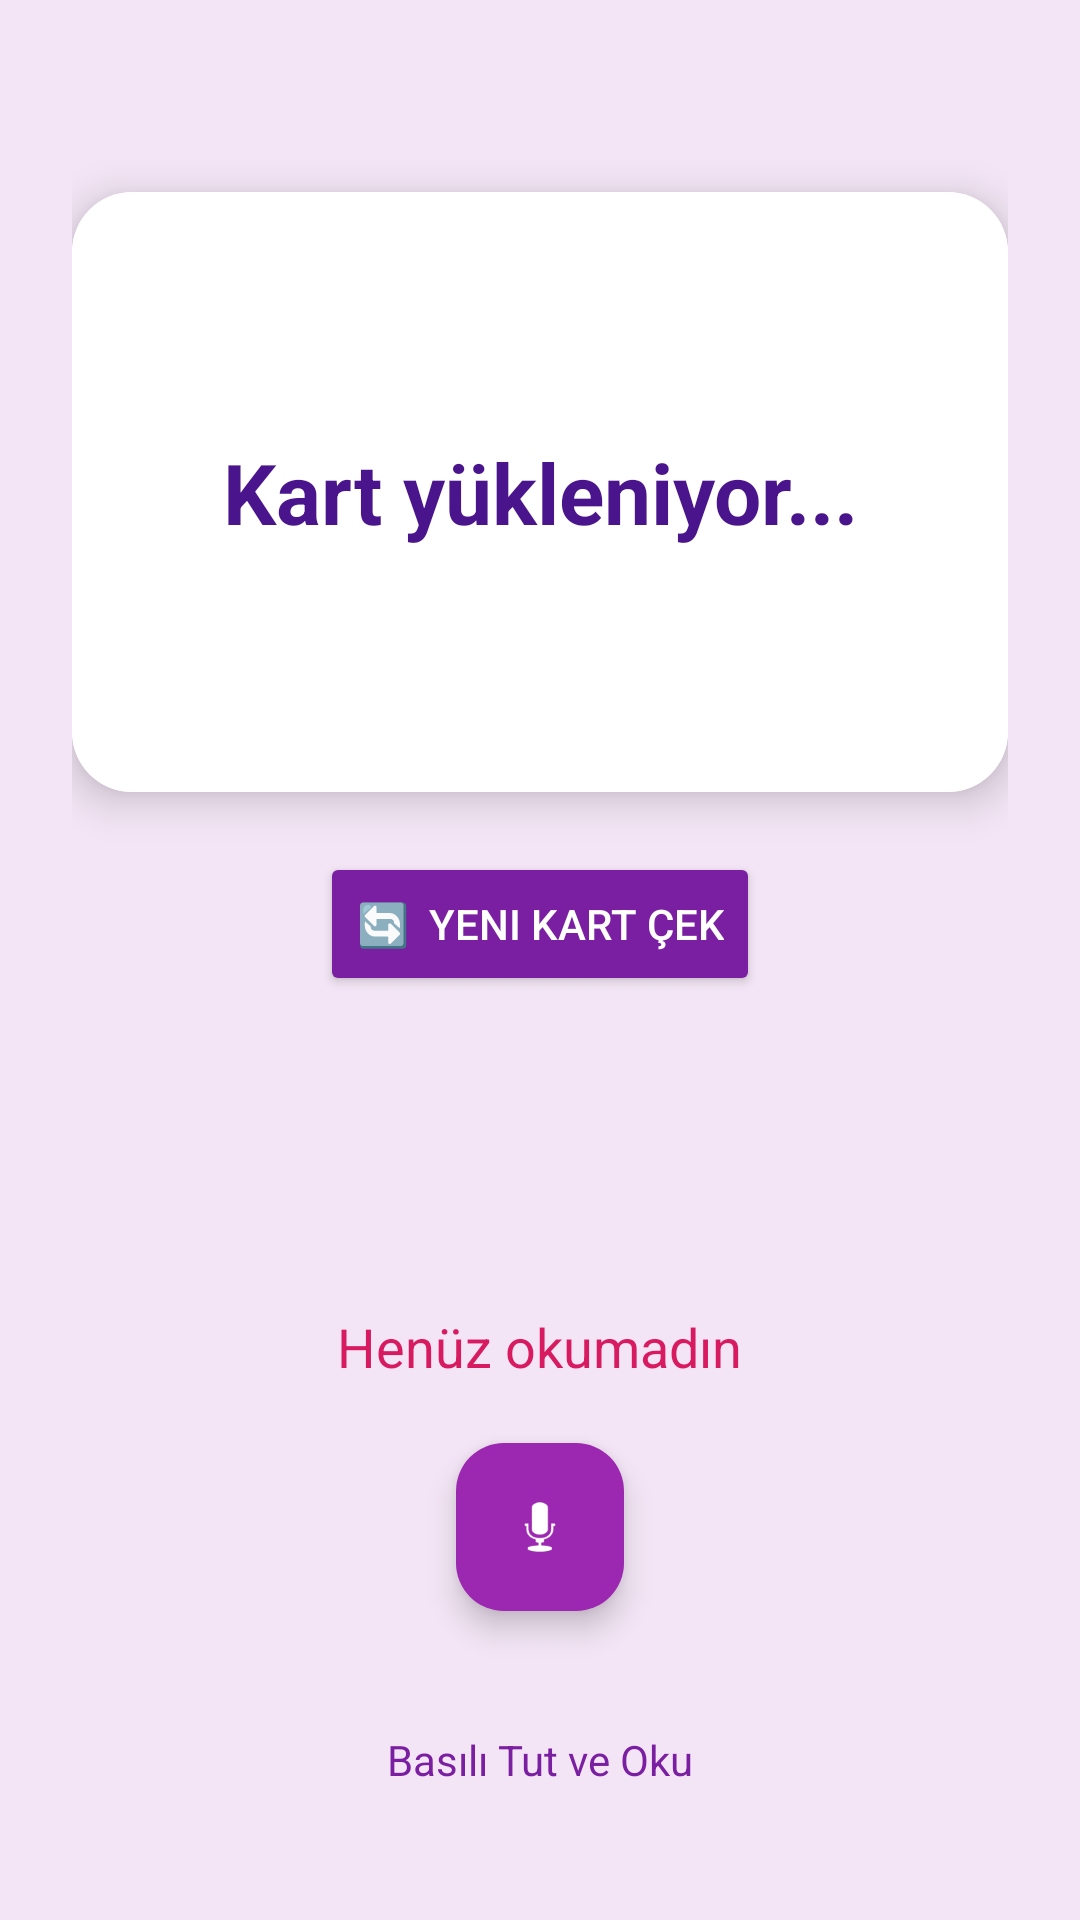

Where icons sit on this 1080*1920 app screen, as (left=x1, top=y1, right=x2, bottom=y2):
speak now: (left=456, top=1443, right=624, bottom=1611)
